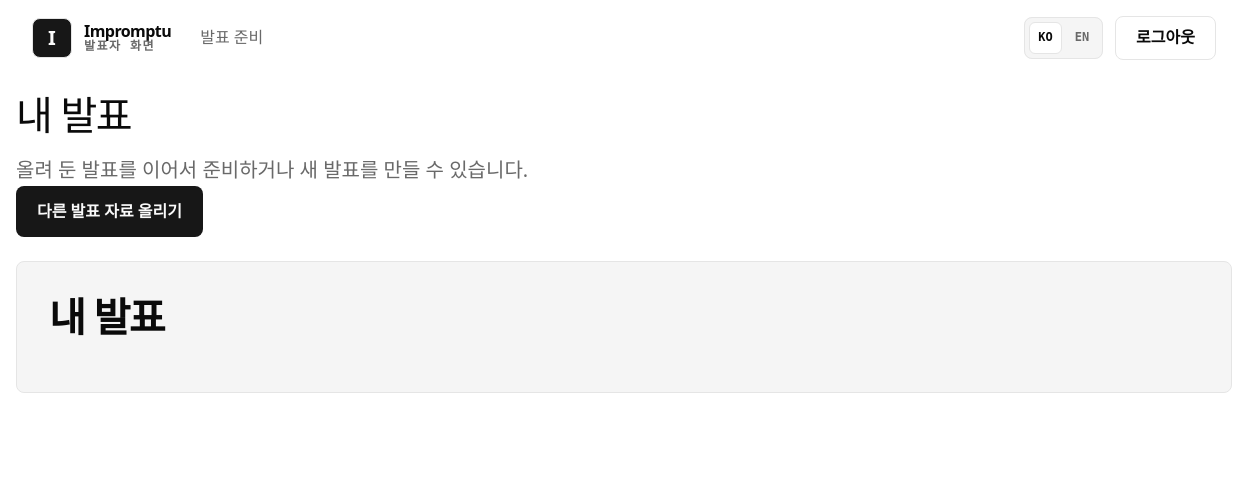
Scenario: Console presentation library › a failed list read is an honest error with retry, never an empty list
Click the button with aria-label "English": (1082, 38) [1066, 22, 1098, 54]
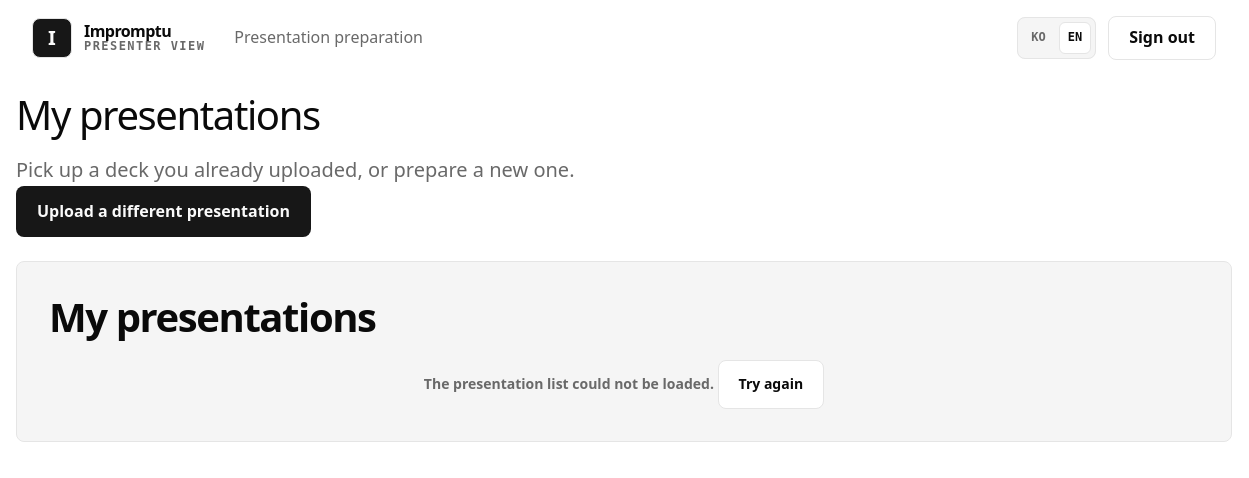
Now the text "The presentation list could not be loaded." is shown, box [424, 374, 714, 393]
Click the button "Try again": (771, 384) [718, 360, 824, 409]
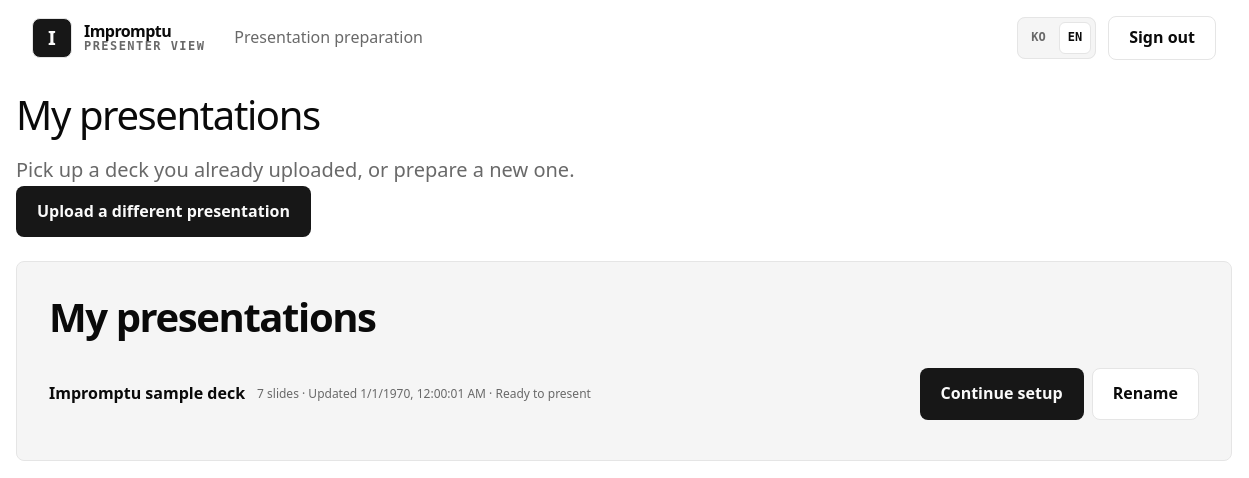
Now the text "Impromptu sample deck" is shown, box [49, 381, 245, 407]
